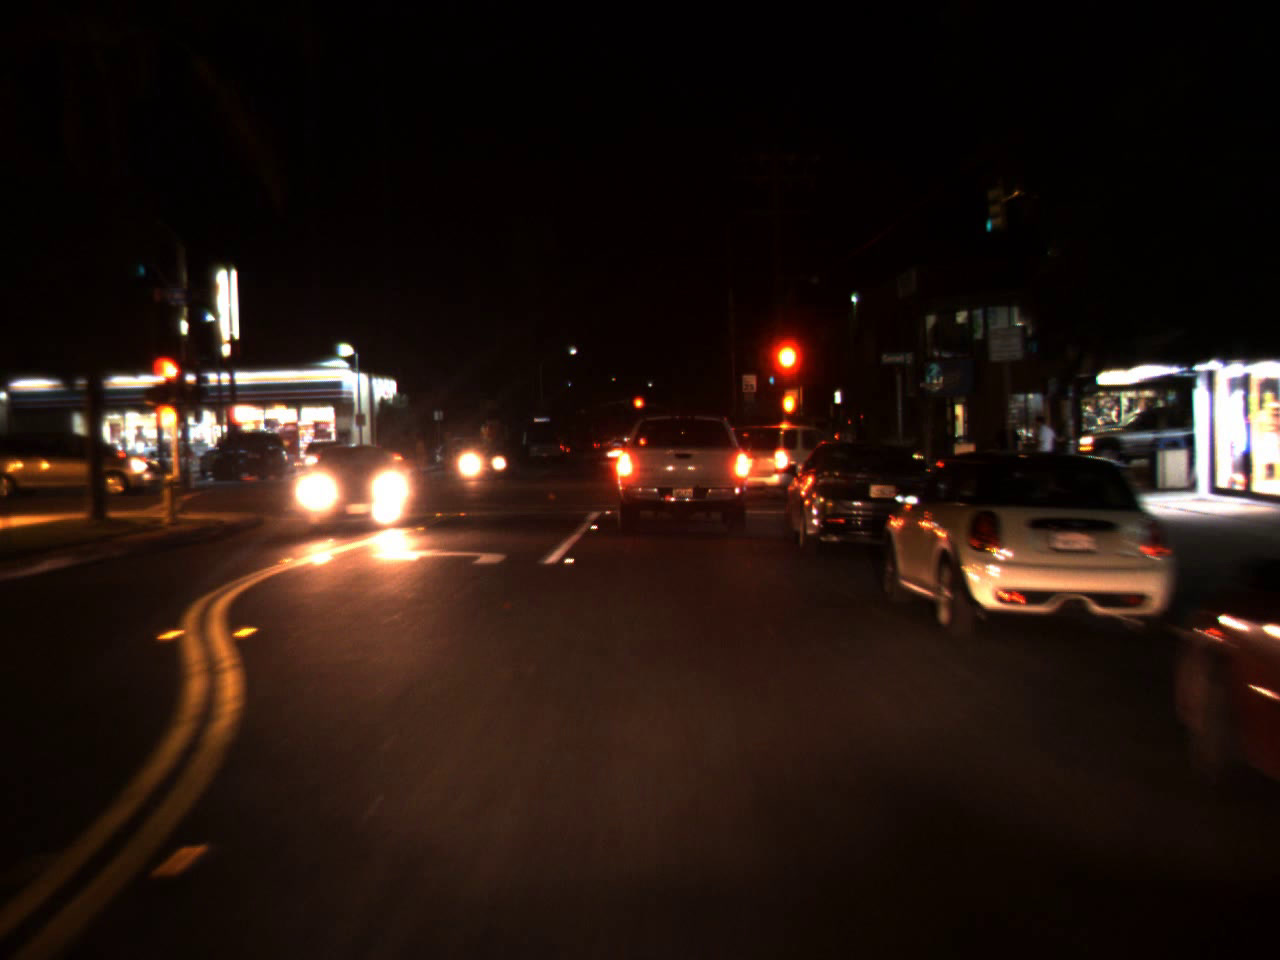stop: (147, 352, 186, 414), (771, 342, 805, 398), (631, 395, 646, 422)
